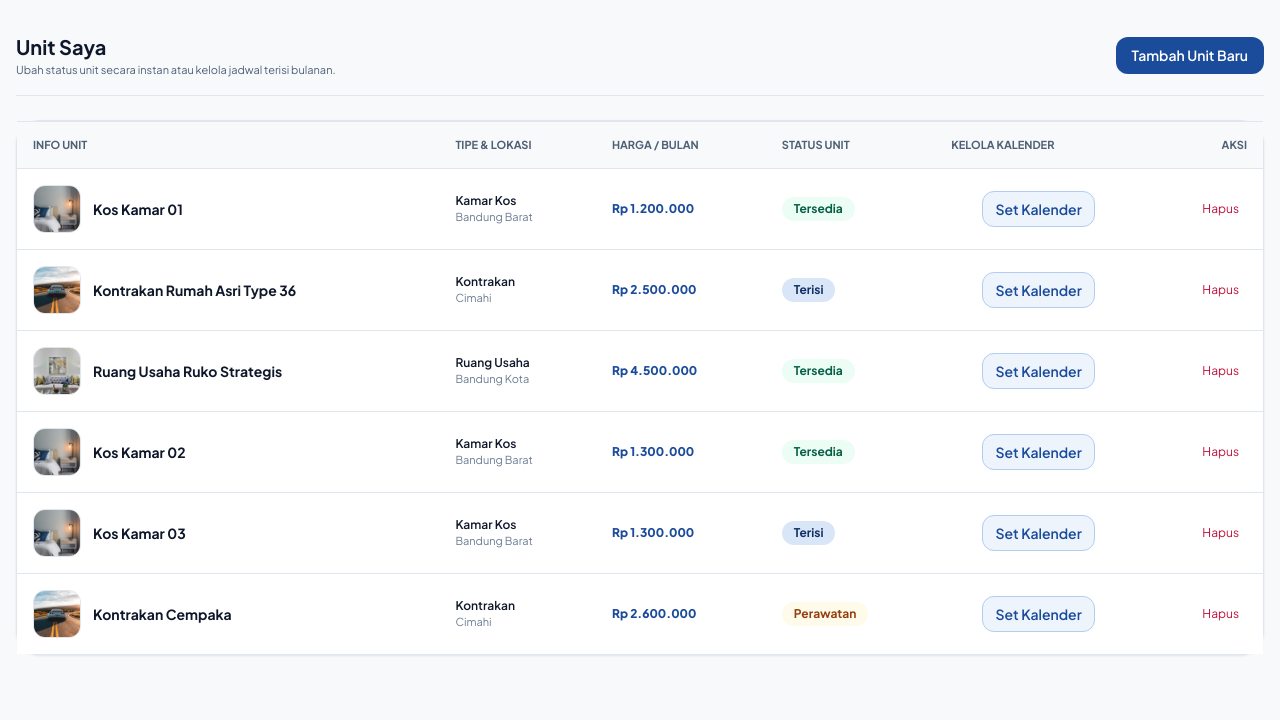
Test: UnitListPage › menukar status unit lewat endpoint status
This screenshot has width=1280, height=720.
Step 1. Click the button with aria-label "Ubah status" → [818, 209], box [782, 197, 855, 221]
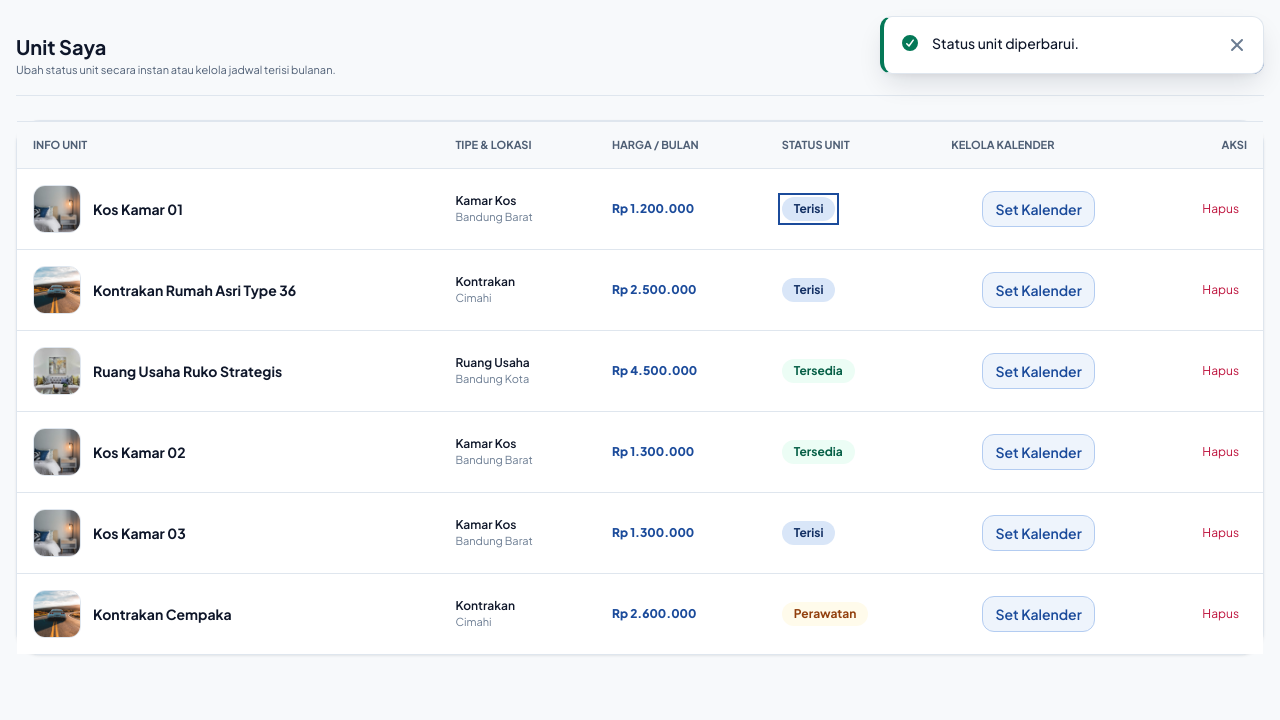
Check: the text "Terisi" in the row of "Kos Kamar 01" is shown, box [794, 201, 824, 216]
